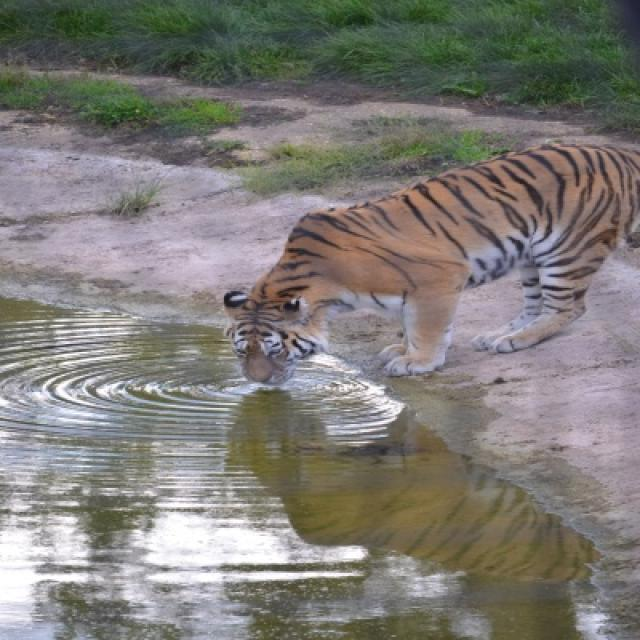Tiger: (227, 142, 638, 391)
